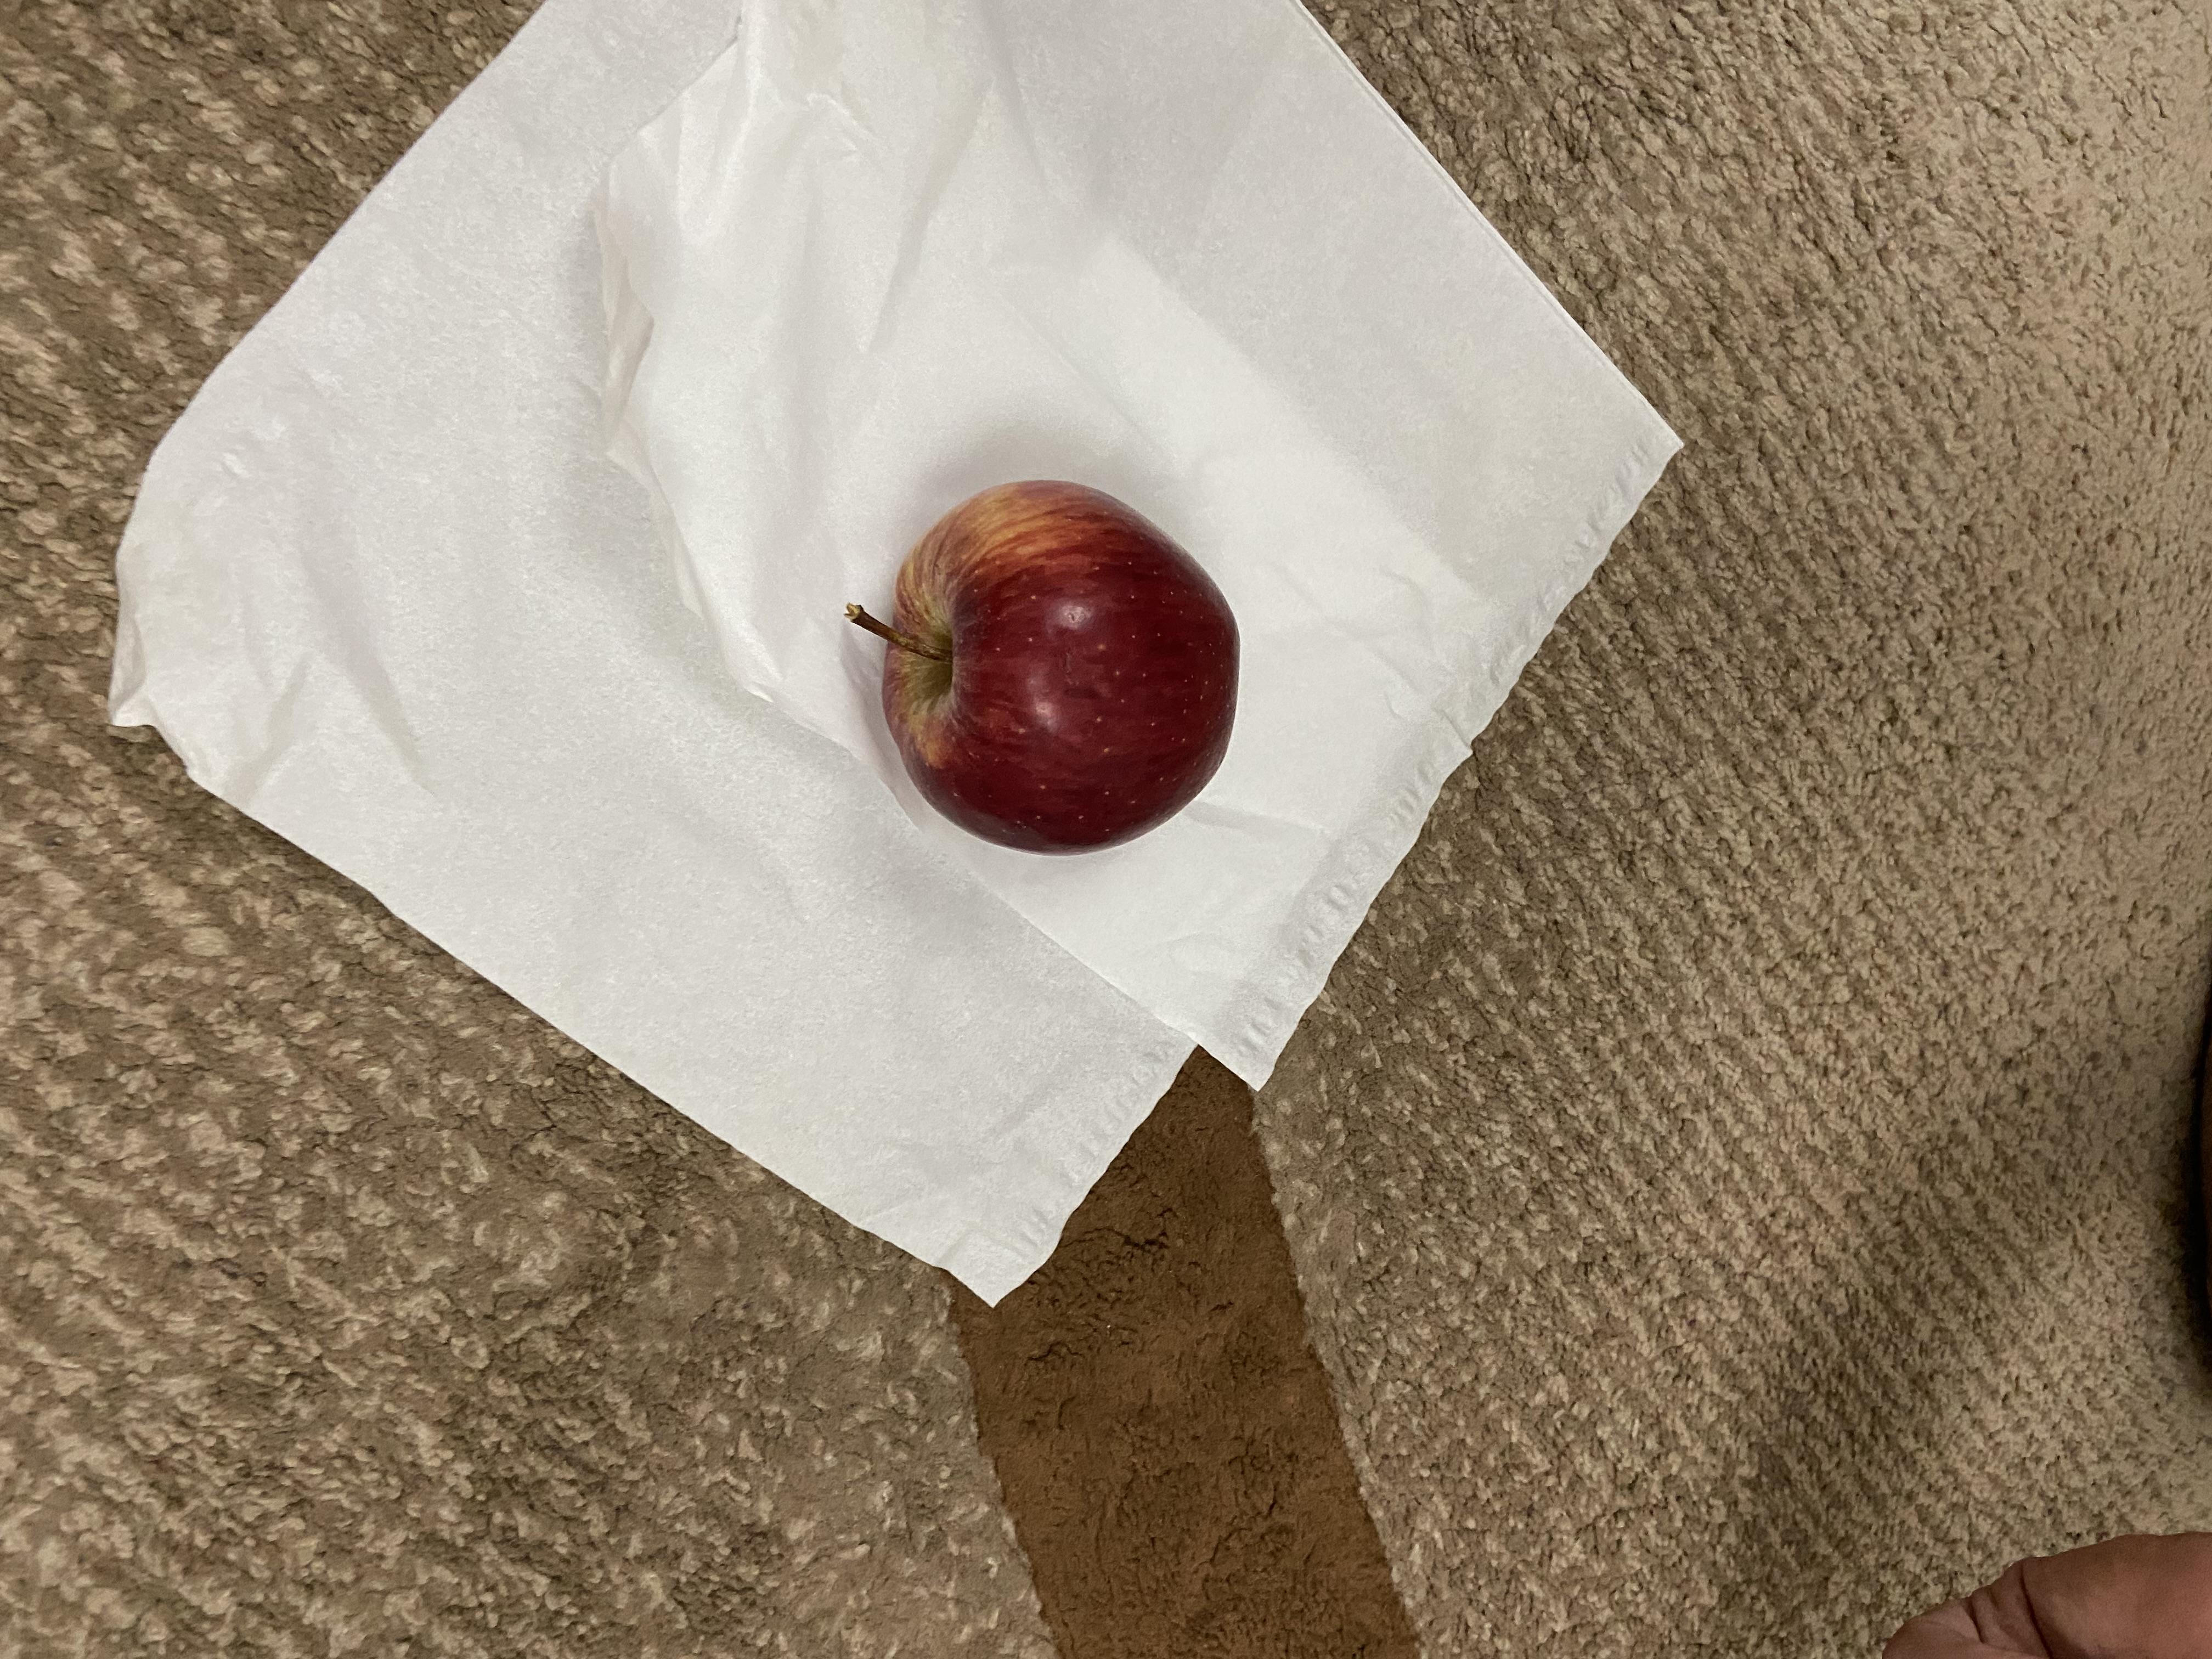Apple: (1078, 613, 1573, 938)
